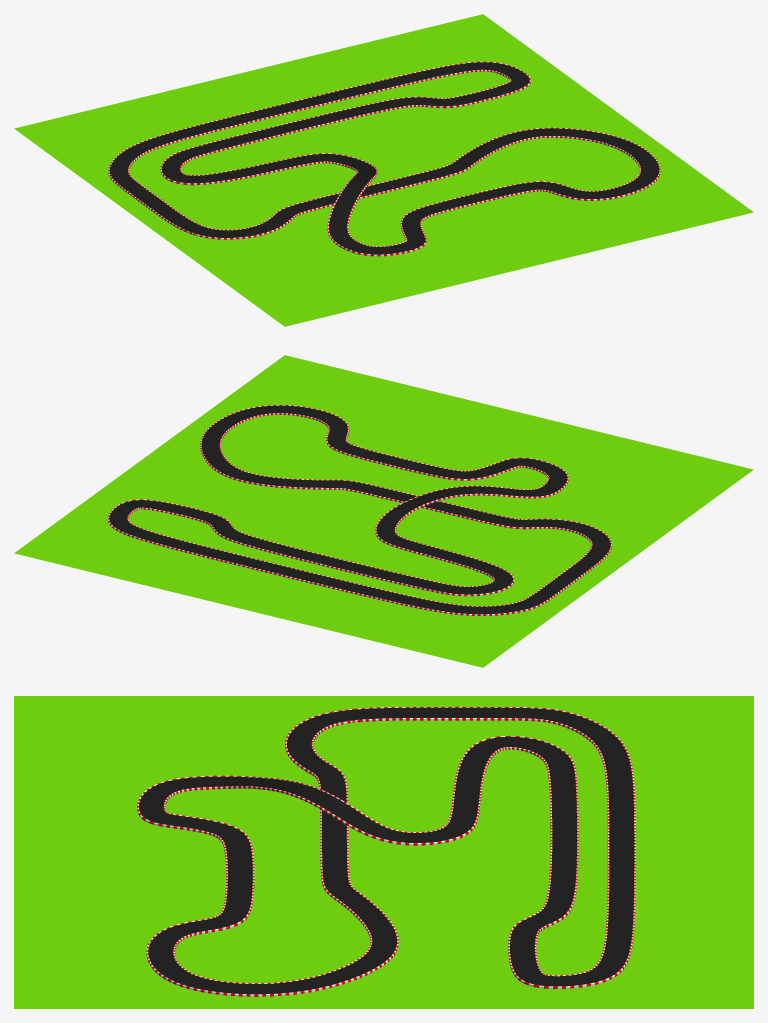
File: Test Race Track 3.fbx
The picture shows the model from 3 angles, top to bottom: view 1: azimuth 30°, elevation 25°; view 2: azimuth 150°, elevation 25°; view 3: azimuth 270°, elevation 25°; orthographic projection. The views are drawn at different scales.
Parts seen in each view (by area): view 1: Plane.009, Plane.008; view 2: Plane.009, Plane.008; view 3: Plane.009, Plane.008.
Boxes of the visible parts, box(x1,y1,x2,y2) form: Plane.009: box(14, 14, 753, 326); Plane.008: box(108, 61, 660, 256); Plane.009: box(14, 355, 753, 667); Plane.008: box(108, 405, 611, 615); Plane.009: box(14, 696, 753, 1008); Plane.008: box(137, 706, 635, 996).
Size of the model in its own units: 209 by 6.68 by 209.
